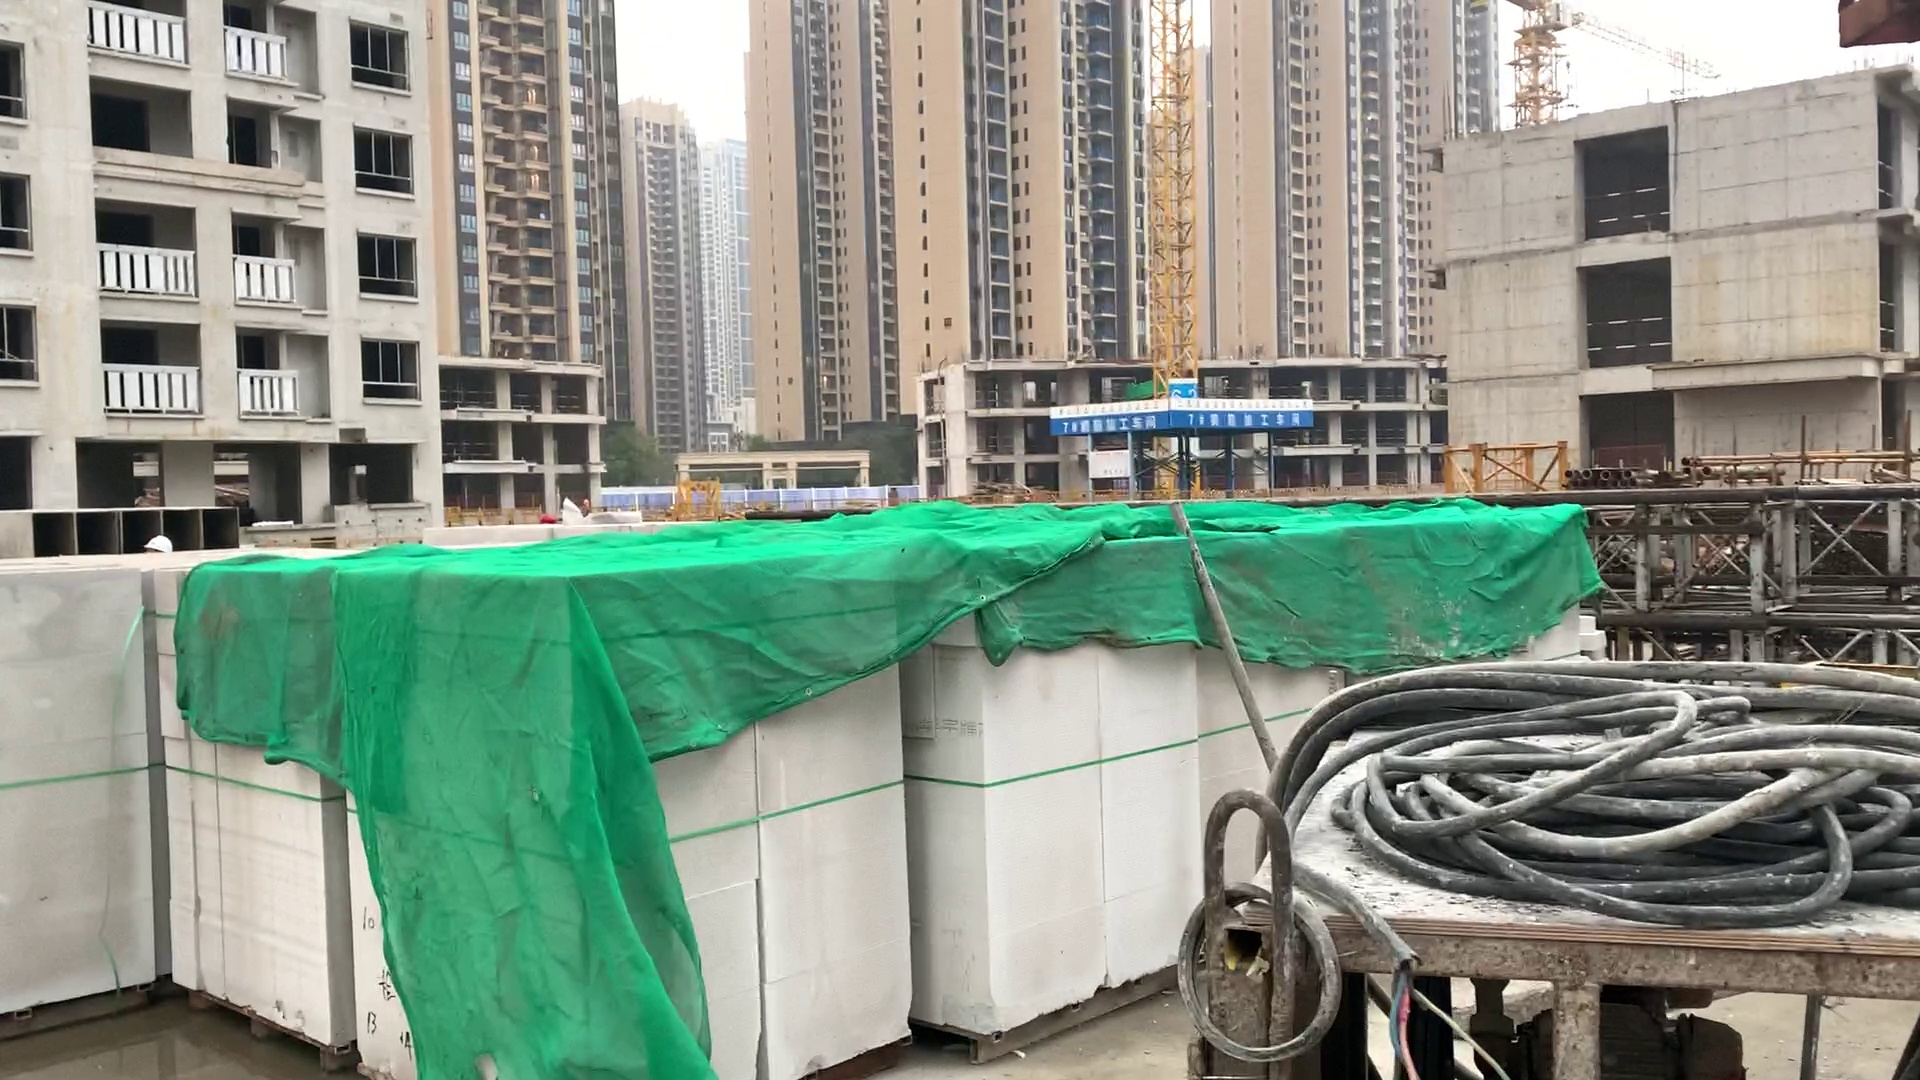brickwork: (342, 575, 580, 1080), (158, 570, 342, 1048), (887, 535, 1026, 1046), (3, 576, 158, 1015), (1196, 537, 1337, 723)
